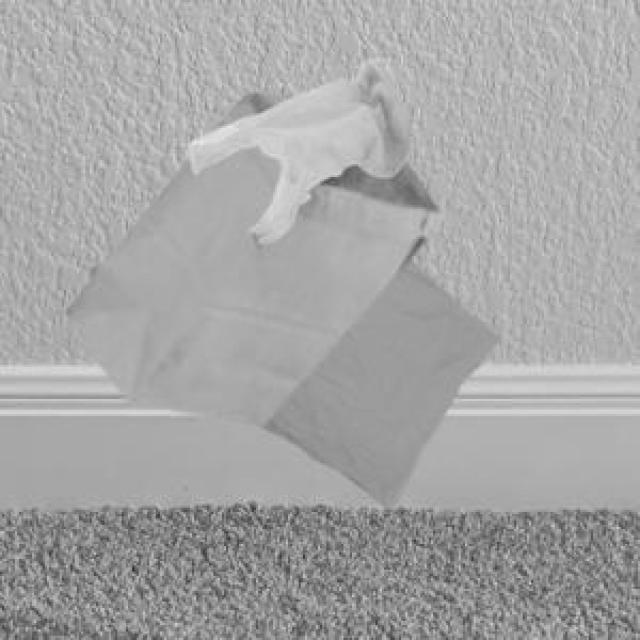paper: (62, 90, 437, 420)
